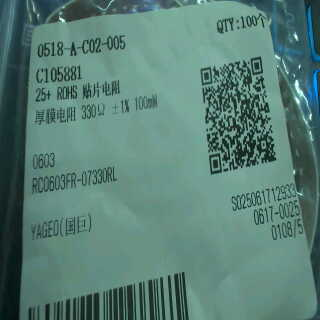330R: (74, 98, 108, 125)
